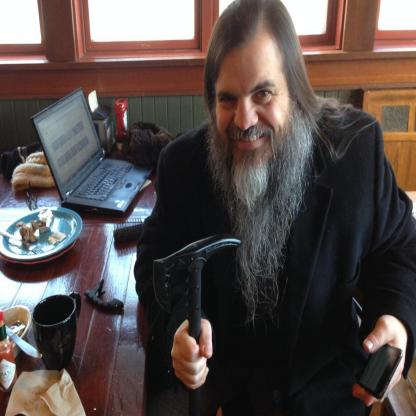board: (153, 233, 239, 416), (33, 87, 154, 215), (0, 311, 17, 392)
